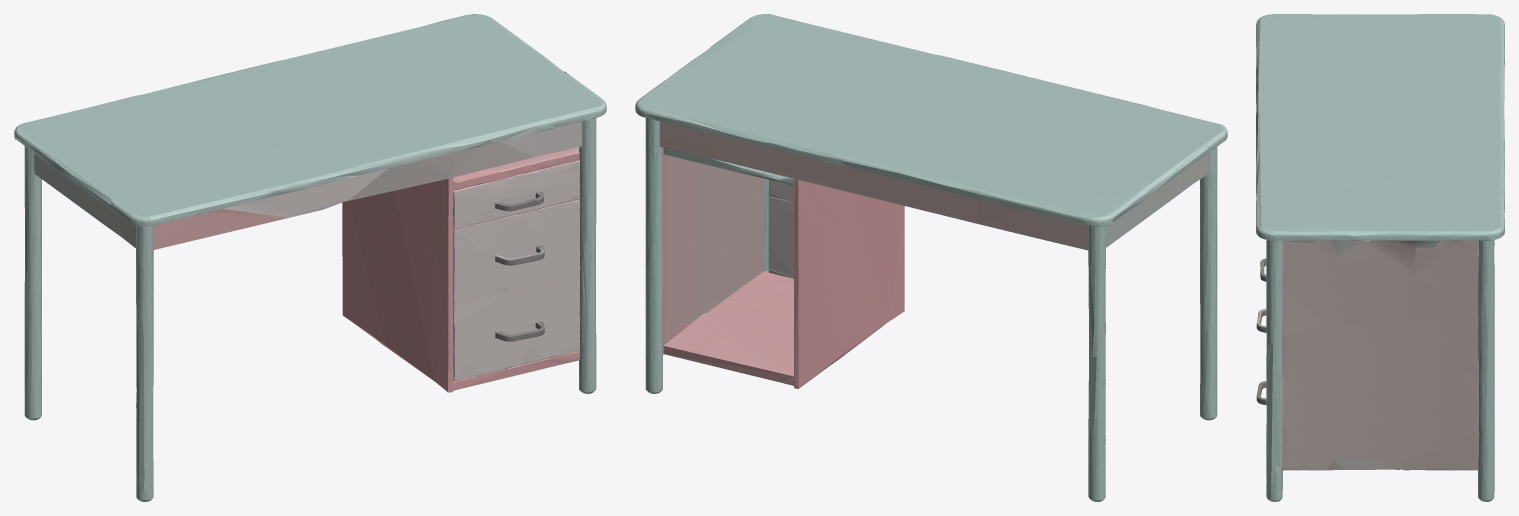
Rendered from scrivania_B.glb.
3 renders of one model, left to right at view 1: azimuth 30°, elevation 25°; view 2: azimuth 150°, elevation 25°; view 3: azimuth 270°, elevation 25°, orthographic. The views are drawn at different scales.
Size of the model in its own units: 1.9 by 1.1 by 0.9076.
Materials: 1 (1 with a texture image).
